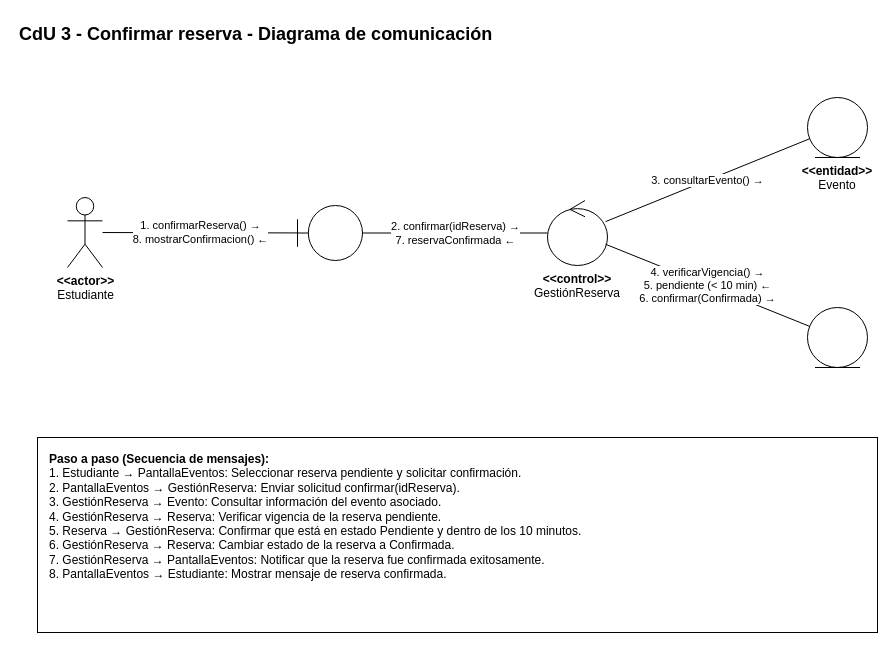
Some shapes in this 895 by 650 pixel diagram are drawn without their labels. Each missing label, with the box of its shape:
<<entidad>> Reserva: (806, 306, 868, 368)
<<límite>> PantallaEventos: (296, 204, 362, 260)
